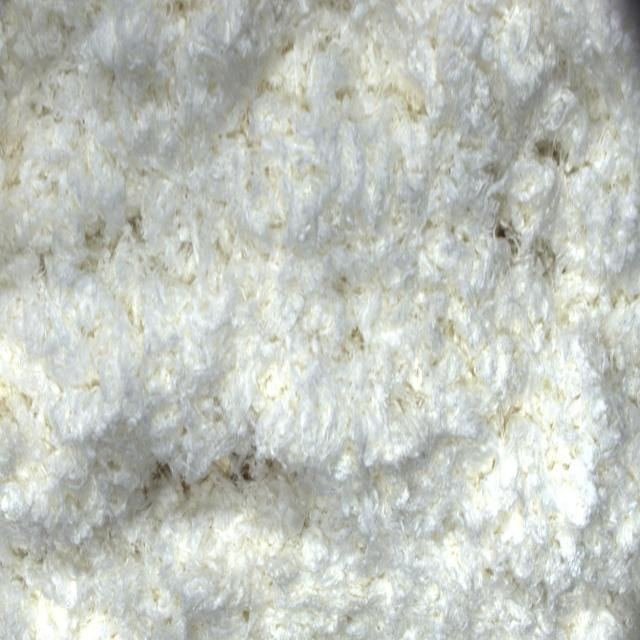dust: (223, 417, 277, 502), (145, 455, 194, 502), (490, 216, 518, 251)
